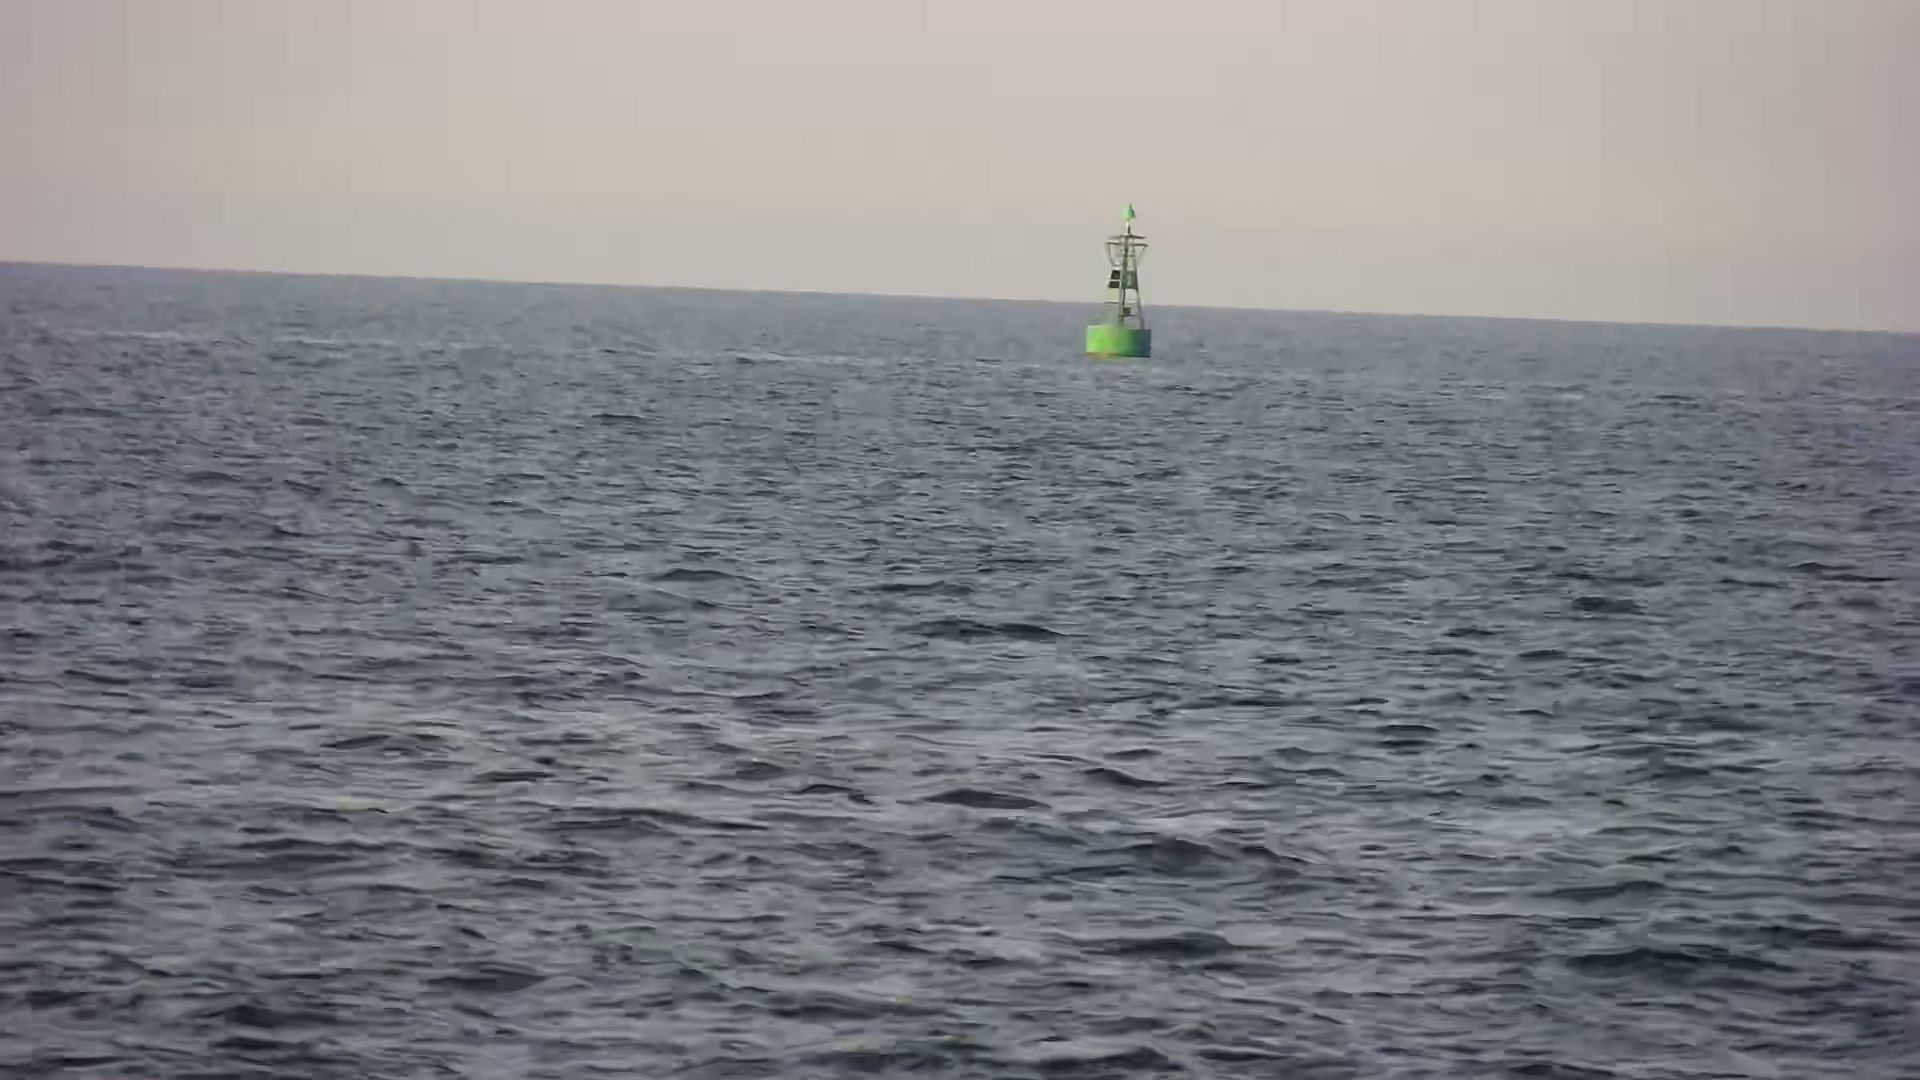buoy: (1083, 196, 1160, 368)
